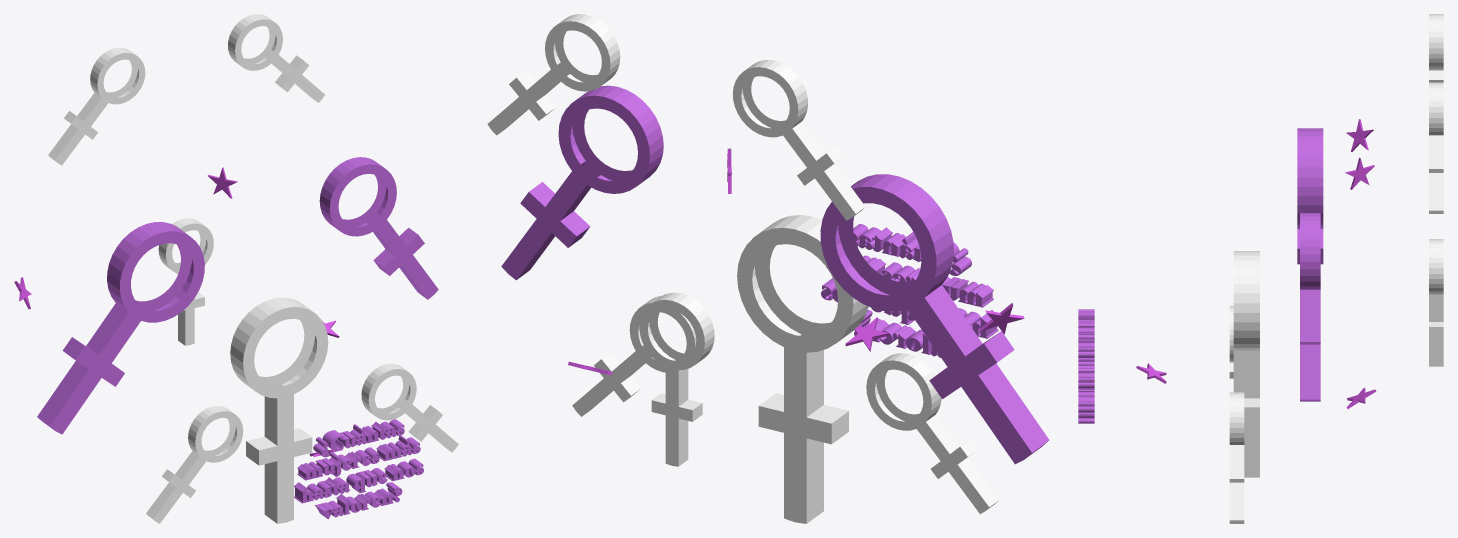
File: Blender_File_Again.glb
3 views of the same model, side by side, from view 1: azimuth 30°, elevation 25°; view 2: azimuth 150°, elevation 25°; view 3: azimuth 270°, elevation 25° (orthographic). The views are drawn at different scales.
Parts seen in each view (by area): view 1: LeftVenus, MiddleVenus, Curve.011, RightVenus, MiddleVenus.004, MiddleVenus.002, MiddleVenus.005, MiddleVenus.003, MiddleVenus.001; view 2: LeftVenus, MiddleVenus, RightVenus, Curve.011, MiddleVenus.002, MiddleVenus.004, MiddleVenus.001, MiddleVenus.003, MiddleVenus.005; view 3: MiddleVenus, RightVenus, LeftVenus, MiddleVenus.005, MiddleVenus.003, Curve.011, MiddleVenus.001, MiddleVenus.002.
Boxes of the visible parts, left/top/right/bottom form: LeftVenus: left=37, top=222, right=204, bottom=434; MiddleVenus: left=230, top=297, right=328, bottom=523; Curve.011: left=294, top=419, right=423, bottom=519; RightVenus: left=319, top=157, right=438, bottom=299; MiddleVenus.004: left=146, top=406, right=243, bottom=523; MiddleVenus.002: left=48, top=47, right=145, bottom=165; MiddleVenus.005: left=361, top=363, right=458, bottom=452; MiddleVenus.003: left=228, top=14, right=324, bottom=102; MiddleVenus.001: left=158, top=218, right=213, bottom=345; LeftVenus: left=820, top=174, right=1049, bottom=464; MiddleVenus: left=737, top=215, right=868, bottom=523; RightVenus: left=501, top=85, right=663, bottom=280; Curve.011: left=821, top=224, right=998, bottom=357; MiddleVenus.002: left=732, top=60, right=865, bottom=220; MiddleVenus.004: left=866, top=353, right=998, bottom=513; MiddleVenus.001: left=639, top=292, right=714, bottom=466; MiddleVenus.003: left=487, top=14, right=620, bottom=135; MiddleVenus.005: left=572, top=295, right=696, bottom=416; MiddleVenus: left=1233, top=251, right=1259, bottom=477; RightVenus: left=1300, top=213, right=1320, bottom=401; LeftVenus: left=1297, top=128, right=1323, bottom=264; MiddleVenus.005: left=1229, top=392, right=1244, bottom=523; MiddleVenus.003: left=1429, top=82, right=1443, bottom=213; Curve.011: left=1078, top=309, right=1094, bottom=423; MiddleVenus.001: left=1429, top=239, right=1443, bottom=366; MiddleVenus.002: left=1429, top=14, right=1443, bottom=82.
Size of the model in its own units: 9.39 by 9.4 by 7.35.
